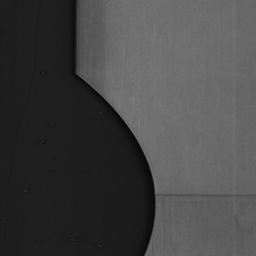Crescent gap: (78, 75, 156, 256)
